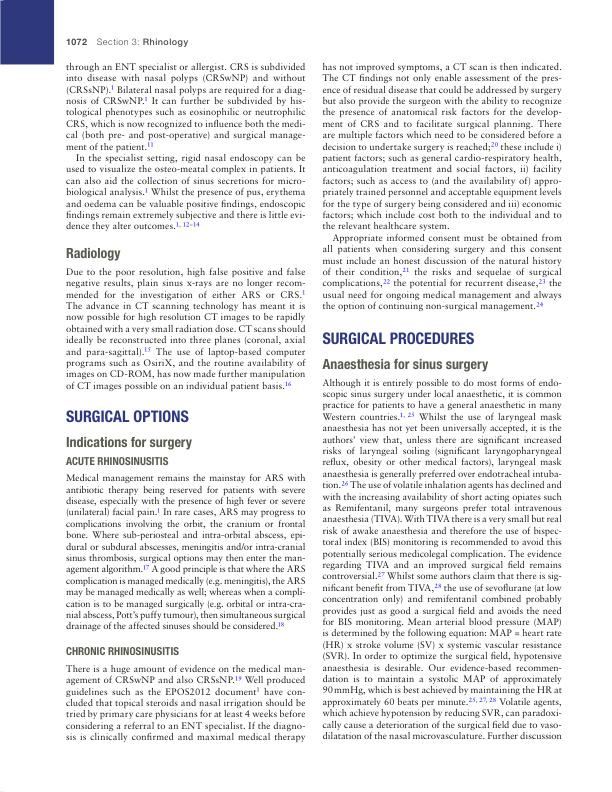header: (96, 37, 189, 48)
section-heading: (321, 331, 476, 346), (65, 409, 190, 424)
sub-section-heading: (321, 358, 489, 373), (65, 436, 193, 450), (65, 646, 180, 656), (65, 456, 169, 466), (64, 246, 122, 262)
text: (321, 377, 563, 742), (321, 60, 562, 312), (65, 61, 307, 233), (65, 472, 306, 632), (64, 266, 307, 394), (64, 663, 306, 743)
